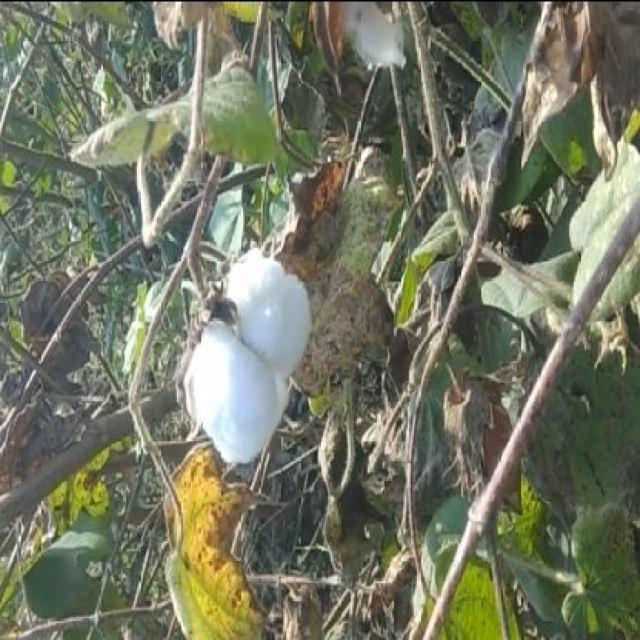cotton_ready: (177, 198, 331, 494)
